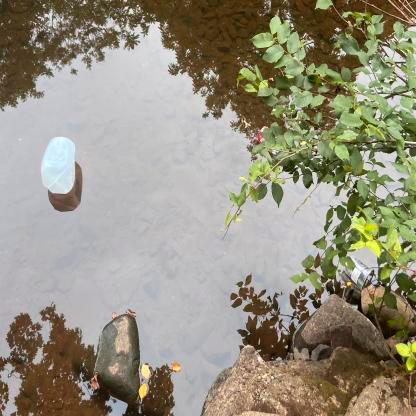Plastic: (38, 131, 80, 198)
